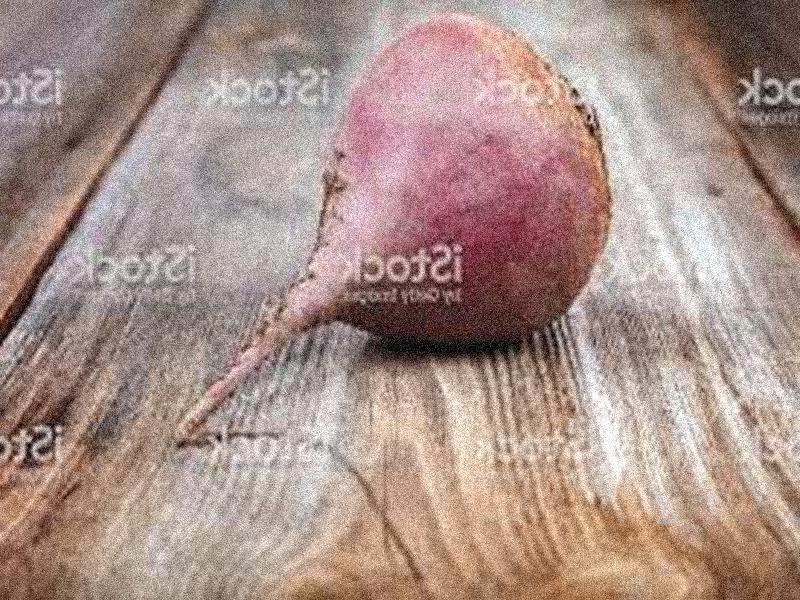Beet: (171, 13, 610, 443)
